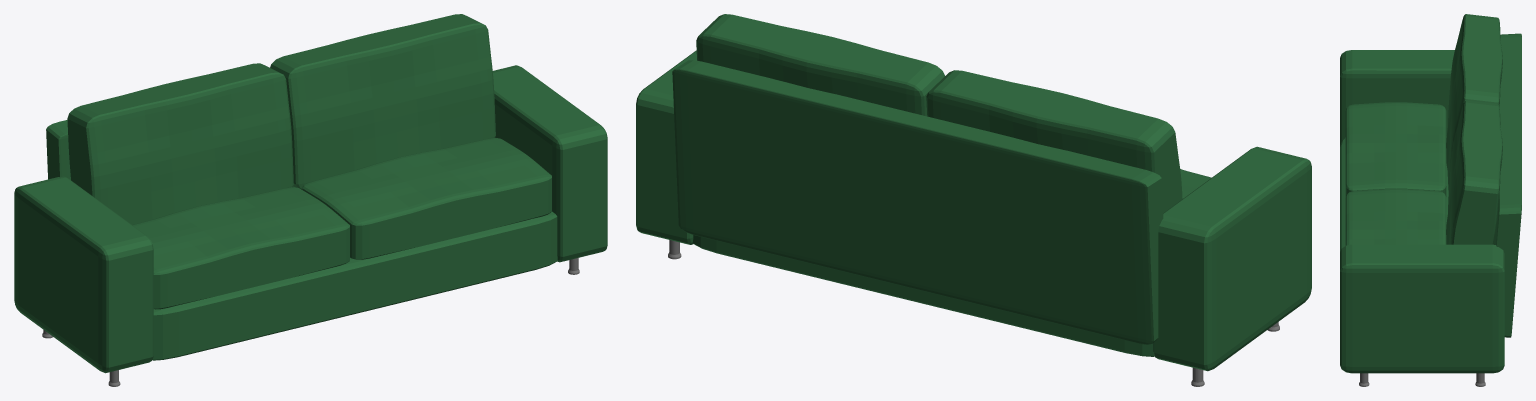
File: Sofa2.fbx
3 views of the same model, side by side, from view 1: azimuth 30°, elevation 25°; view 2: azimuth 150°, elevation 25°; view 3: azimuth 270°, elevation 25° (orthographic). The views are drawn at different scales.
Visible parts, largest first — view 1: Sofa2; view 2: Sofa2; view 3: Sofa2.
Part boxes in pixels (<box>): Sofa2: <box>14,14,607,386</box>; Sofa2: <box>636,14,1311,386</box>; Sofa2: <box>1340,14,1521,386</box>.
Bounding box in the file's own units: 732 × 300 × 260.
